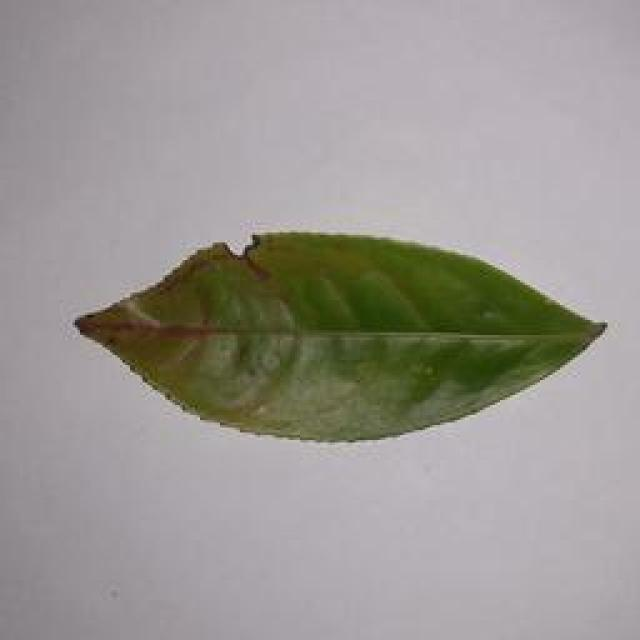Red Leaf Spot: (68, 228, 611, 440)
